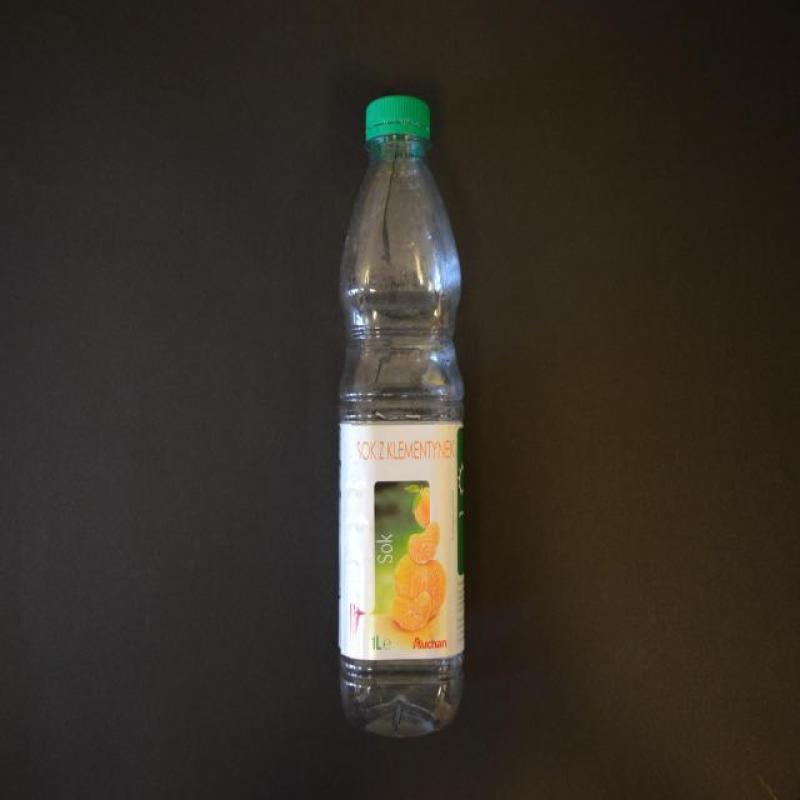botella: (336, 95, 465, 739)
